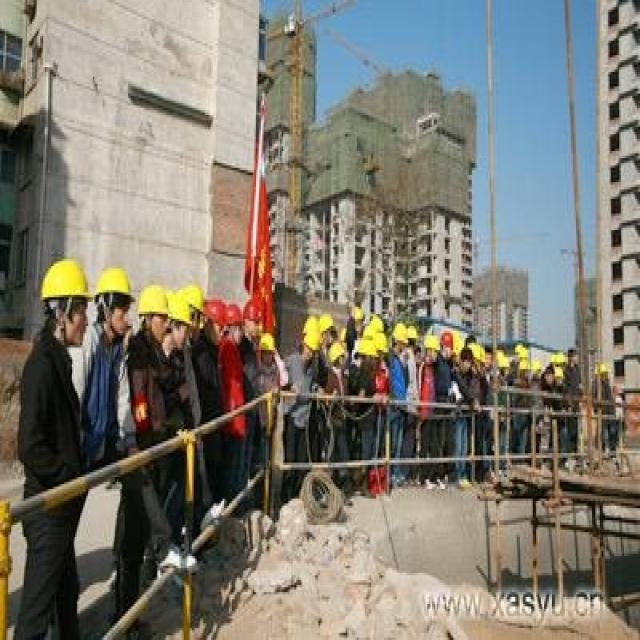Con_Casco: (40, 258, 90, 346), (95, 265, 133, 334)
